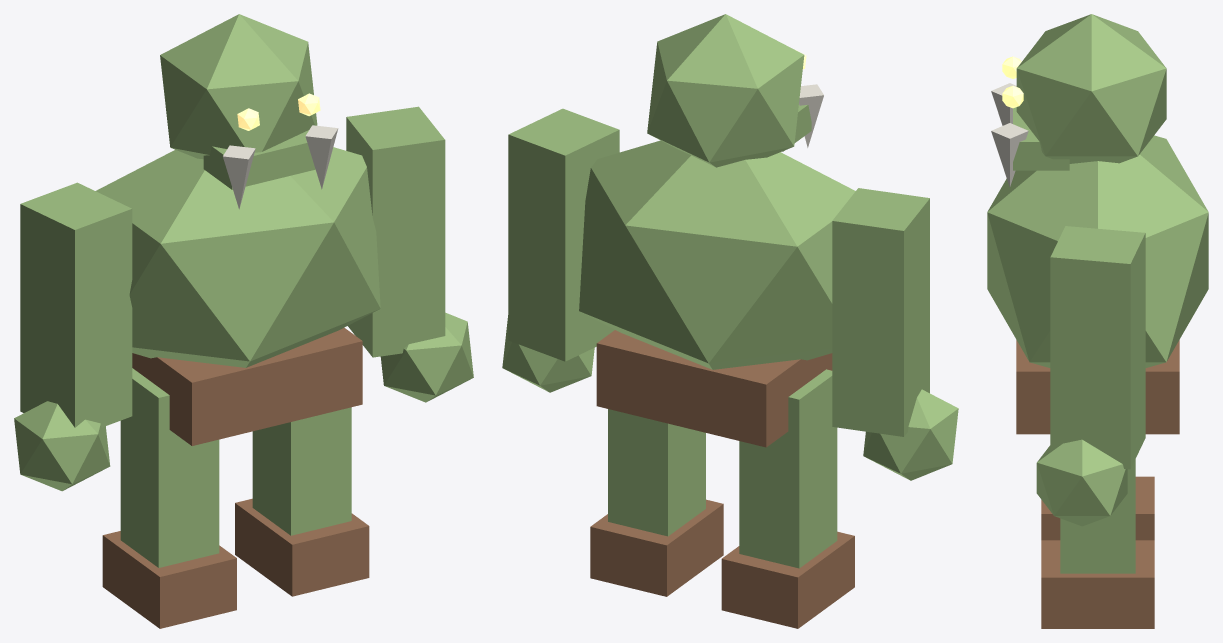
The model's file is ogre.glb.
3 renders of one model, left to right at view 1: azimuth 30°, elevation 25°; view 2: azimuth 150°, elevation 25°; view 3: azimuth 270°, elevation 25°, orthographic.
Parts seen in each view (by area): view 1: body.007, arm_l.009, arm_r.009, head.011, loincloth.001, leg_l.009, leg_r.009, foot_r.006, foot_l.006, fist_l.003, fist_r.003, jaw.003 (+2 smaller); view 2: body.007, arm_l.009, arm_r.009, head.011, loincloth.001, leg_l.009, leg_r.009, foot_l.006, foot_r.006, fist_l.003, fist_r.003, tusk_l; view 3: body.007, arm_r.009, head.011, foot_r.006, fist_r.003, loincloth.001, leg_r.009, foot_l.006, jaw.003, tusk_r, tusk_l, eye_r.017.
Boxes of the visible parts, box(x1,y1,x2,y2) form: body.007: box(95, 147, 380, 367); arm_l.009: box(20, 182, 132, 427); arm_r.009: box(346, 106, 445, 357); head.011: box(160, 14, 317, 159); loincloth.001: box(132, 327, 362, 445); leg_l.009: box(120, 368, 219, 567); leg_r.009: box(252, 407, 351, 535); foot_r.006: box(235, 498, 369, 596); foot_l.006: box(102, 531, 236, 628); fist_l.003: box(14, 401, 110, 491); fist_r.003: box(380, 312, 473, 402); jaw.003: box(203, 130, 315, 189); body.007: box(579, 140, 855, 369); arm_l.009: box(832, 188, 929, 436); arm_r.009: box(508, 108, 619, 361); head.011: box(647, 14, 804, 167); loincloth.001: box(596, 330, 832, 447); leg_l.009: box(739, 369, 837, 568); leg_r.009: box(608, 409, 705, 536); foot_l.006: box(721, 531, 854, 628); foot_r.006: box(590, 499, 723, 596); fist_l.003: box(863, 389, 958, 480); fist_r.003: box(502, 315, 594, 392); tusk_l: box(799, 84, 823, 147); body.007: box(987, 135, 1208, 367); arm_r.009: box(1050, 226, 1145, 469); head.011: box(1016, 14, 1166, 163); foot_r.006: box(1041, 540, 1154, 628); fist_r.003: box(1036, 439, 1127, 526); loincloth.001: box(1016, 340, 1179, 434); leg_r.009: box(1060, 459, 1135, 573); foot_l.006: box(1041, 476, 1154, 540); jaw.003: box(1013, 107, 1069, 170); tusk_r: box(991, 123, 1028, 187); tusk_l: box(991, 83, 1016, 125); eye_r.017: box(1002, 85, 1023, 108).
Size of the model in its own units: 1.62 by 1.98 by 0.7043.
